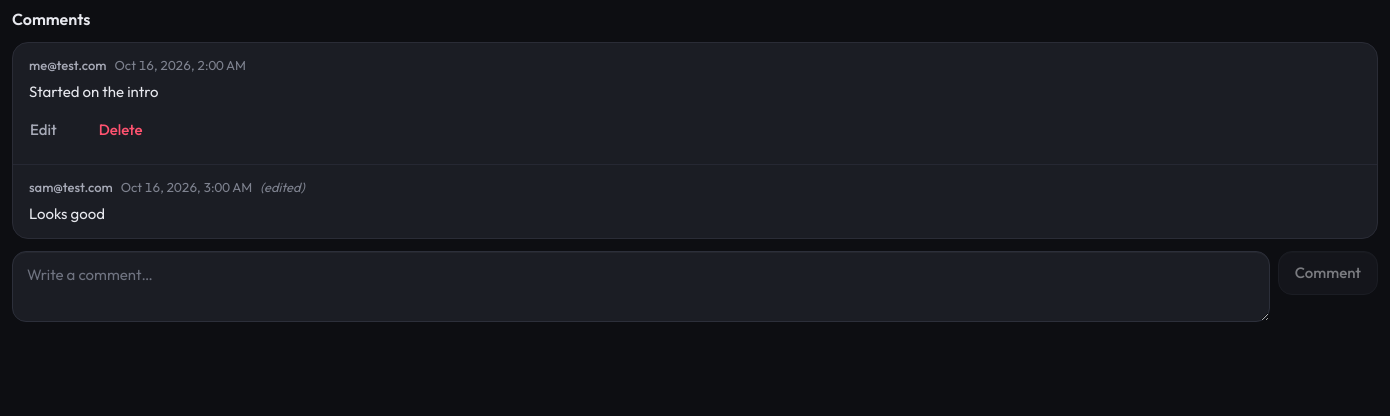
Test case: Comments › edits your own comment
Step 1. Click the button with aria-label "Edit comment" → x=43, y=130, box left=13, top=108, right=74, bottom=152
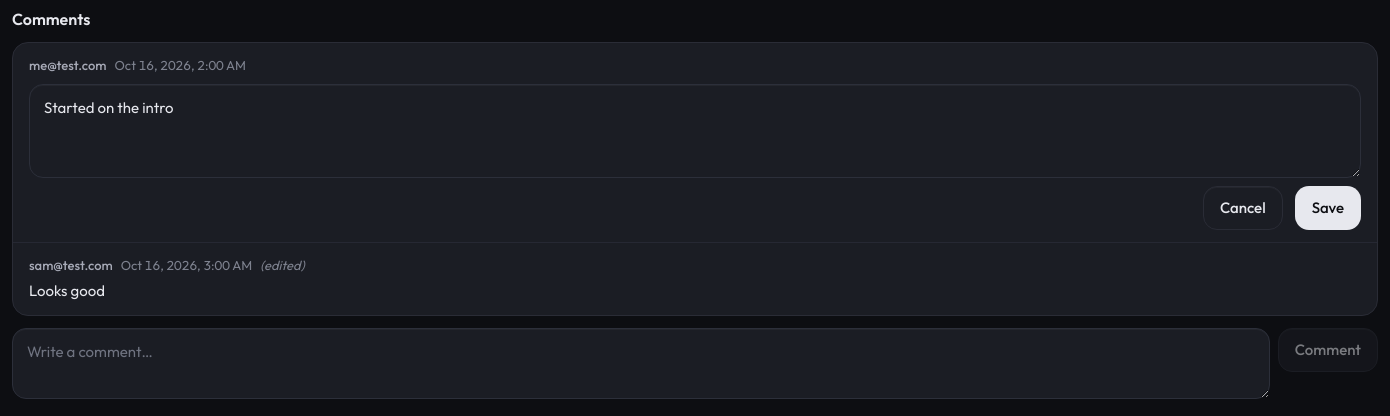
Step 2. Replace the text in the text box named "Edit comment" with "Started on the summary" → x=695, y=131, box left=29, top=84, right=1361, bottom=178
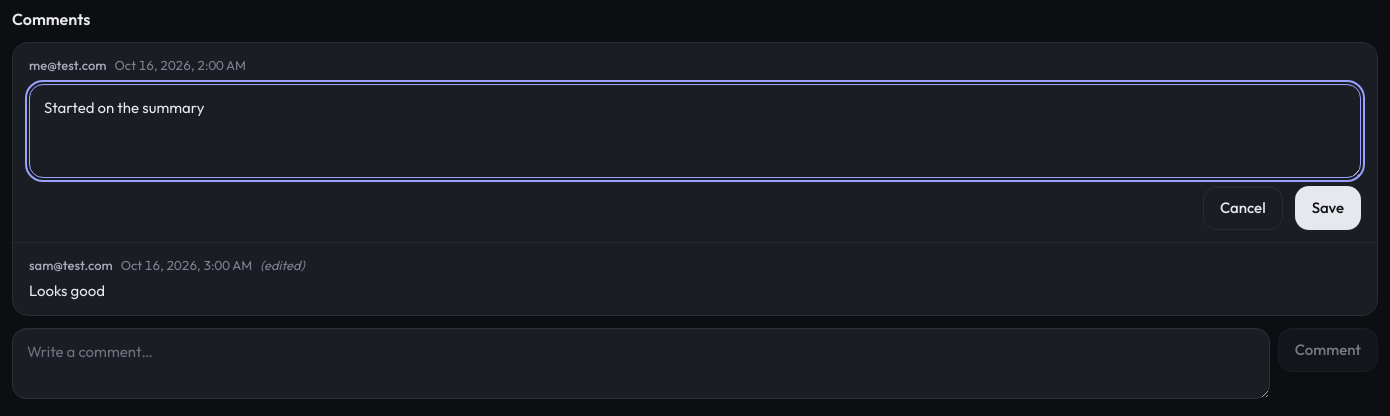
Step 3. Click the button "Save" → x=1328, y=208, box left=1295, top=186, right=1361, bottom=230
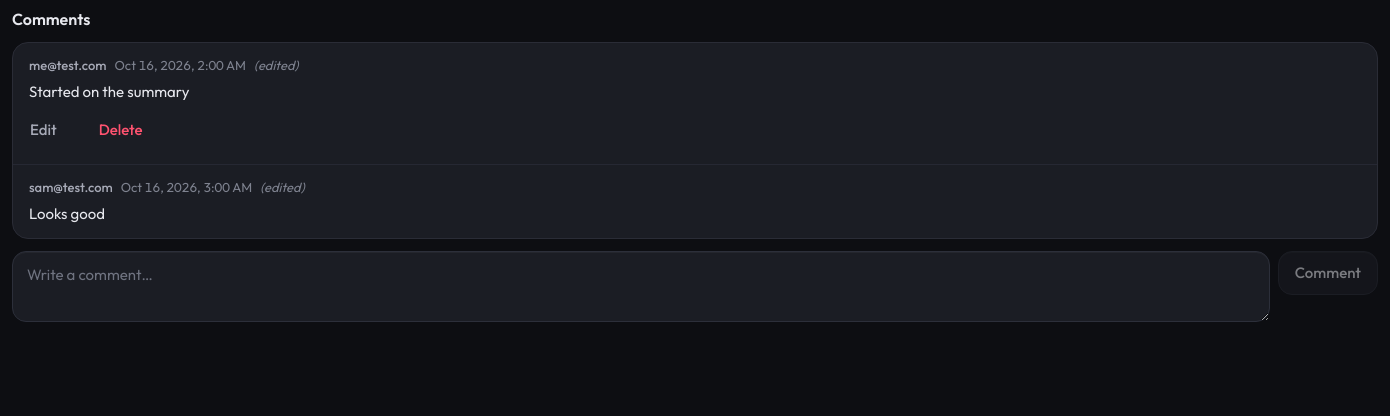
Now the text "Started on the summary" is shown, box left=29, top=82, right=189, bottom=101
